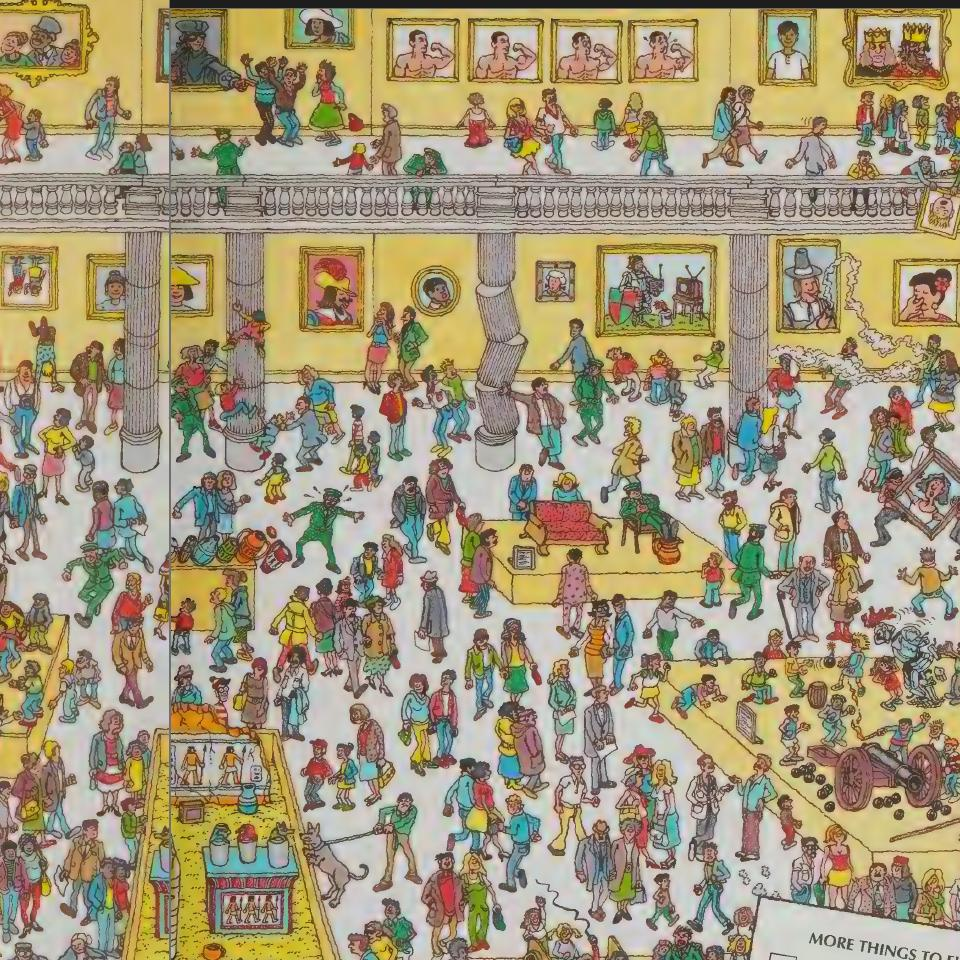waldo: (210, 677, 232, 719)
